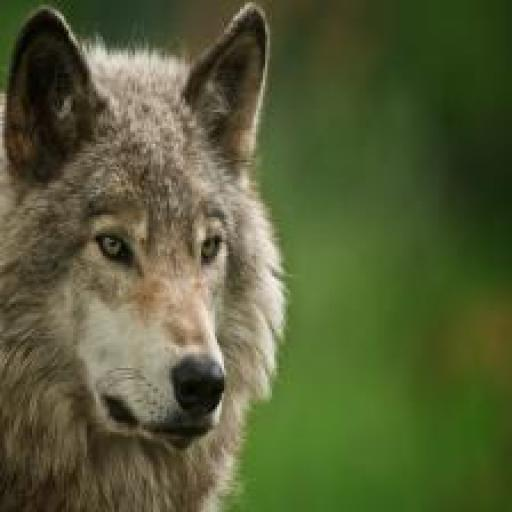wolf: (0, 0, 302, 512)
